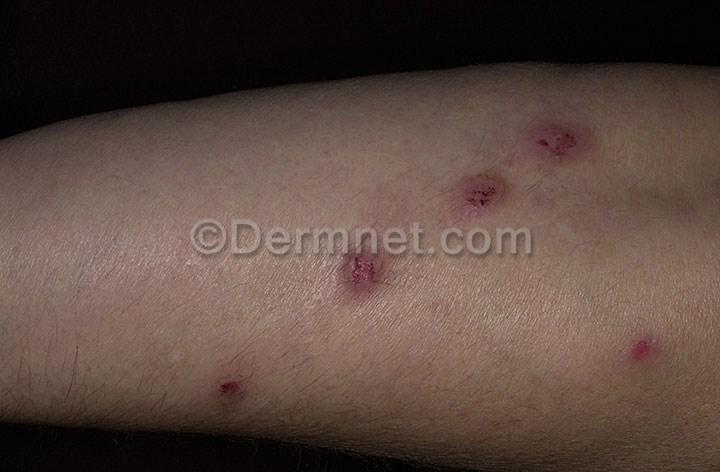Eczema: (315, 219, 405, 345), (520, 95, 604, 207), (447, 160, 520, 284), (182, 340, 274, 422), (600, 308, 677, 393)
